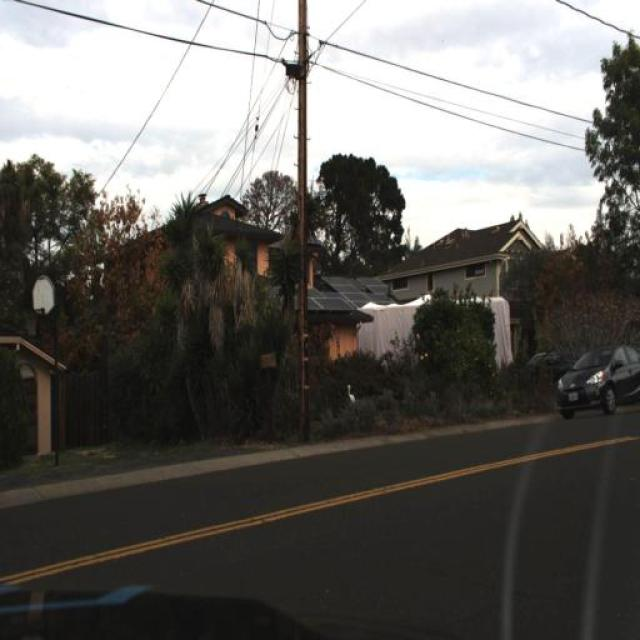car: (548, 330, 638, 420)
